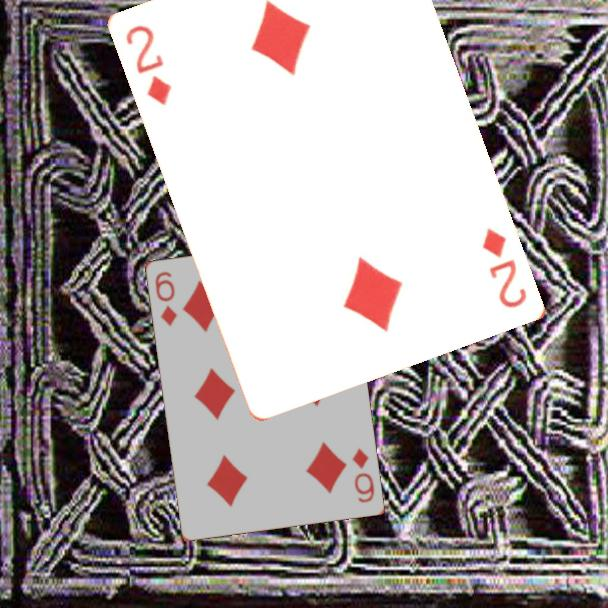d02: (122, 21, 176, 108), (479, 225, 531, 311)
d06: (151, 268, 180, 329), (348, 444, 377, 505)
